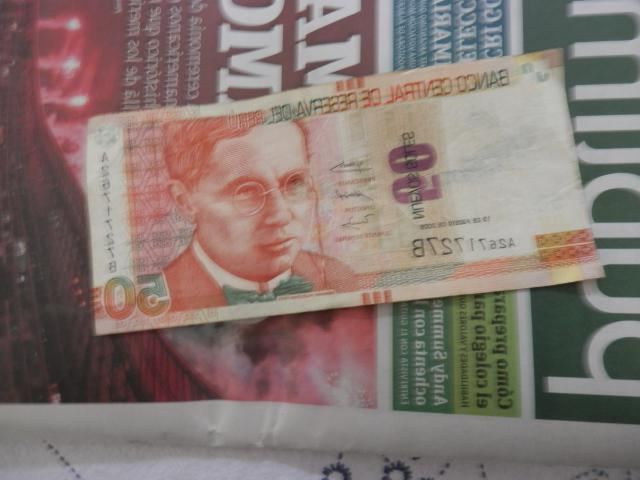B50: (88, 49, 597, 334)
